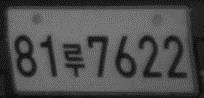1: (40, 33, 58, 78)
2: (163, 33, 190, 81), (138, 33, 162, 79)
6: (115, 34, 136, 78)
7: (85, 34, 109, 78)
8: (12, 33, 36, 78)
루: (61, 41, 86, 79)
